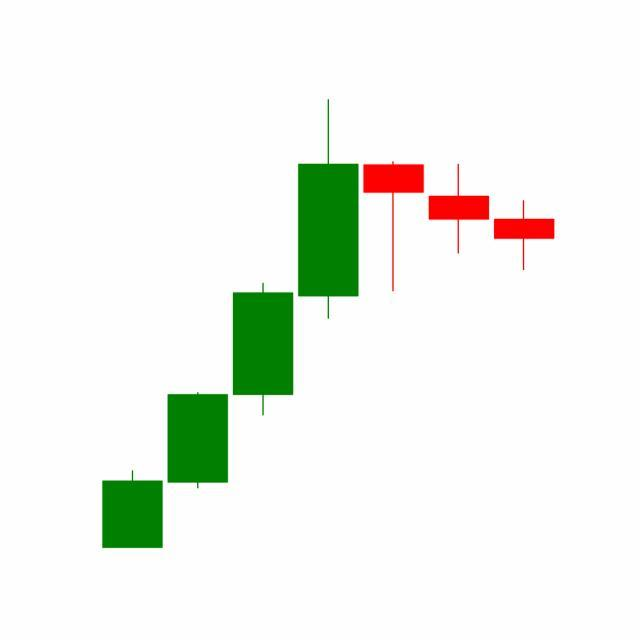Hikkake Pattern: (229, 99, 555, 421)
